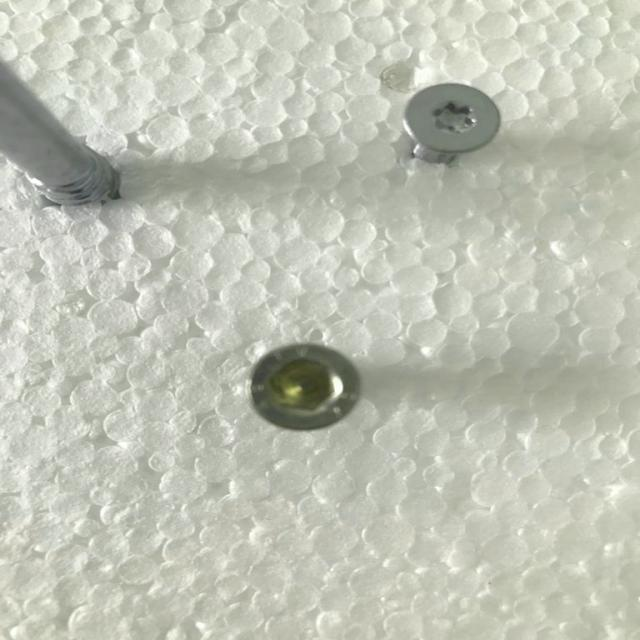HexScrew: (248, 341, 364, 431)
